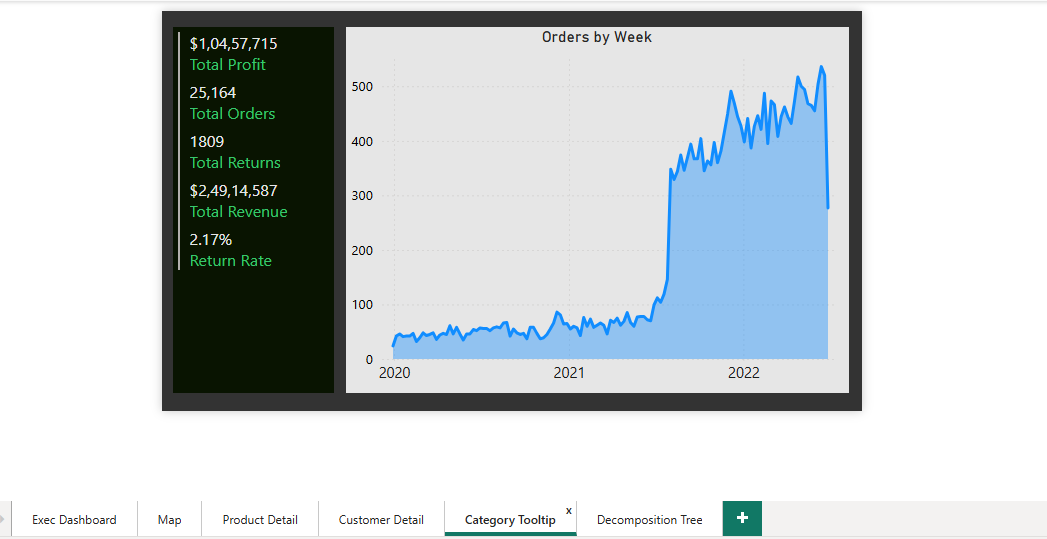

Layout of this report page (visuals, bound fields, positions):
{"tool":"powerbi","page":{"name":"Category Tooltip","canvas":[700,400],"ordinal":4},"visuals":[{"type":"multiRowCard","fields":{"Values":["Measure Table.Total Profit","Measure Table.Total Orders","Measure Table.Total Returns","Measure Table.Total Revenue","Measure Table.Return Rate"]},"box":[11.5,16.4,160.7,365.6],"z":0},{"type":"areaChart","title":"Orders by Week","fields":{"Category":["Calendar Lookup.Date Hierarchy.Start of Week"],"Y":["Measure Table.Total Orders"]},"box":[183.6,16.4,503.3,365.6],"z":1000}]}

Visuals, with their boxes on the page's 700x400 design canvas (x1, y1, x2, y2). These are canvas units, not pixel positions in the 1047x539 screenshot, which may show the page scaled, cropped or inside an application window:
multiRowCard - Measure Table.Total Profit x Measure Table.Total Orders: [left=12, top=16, right=172, bottom=382]
"Orders by Week" areaChart: [left=184, top=16, right=687, bottom=382]
